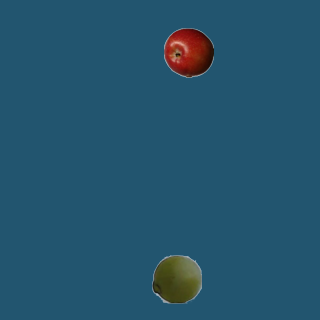Apple Braeburn: (163, 27, 213, 77)
Grape White 4: (151, 253, 201, 303)
